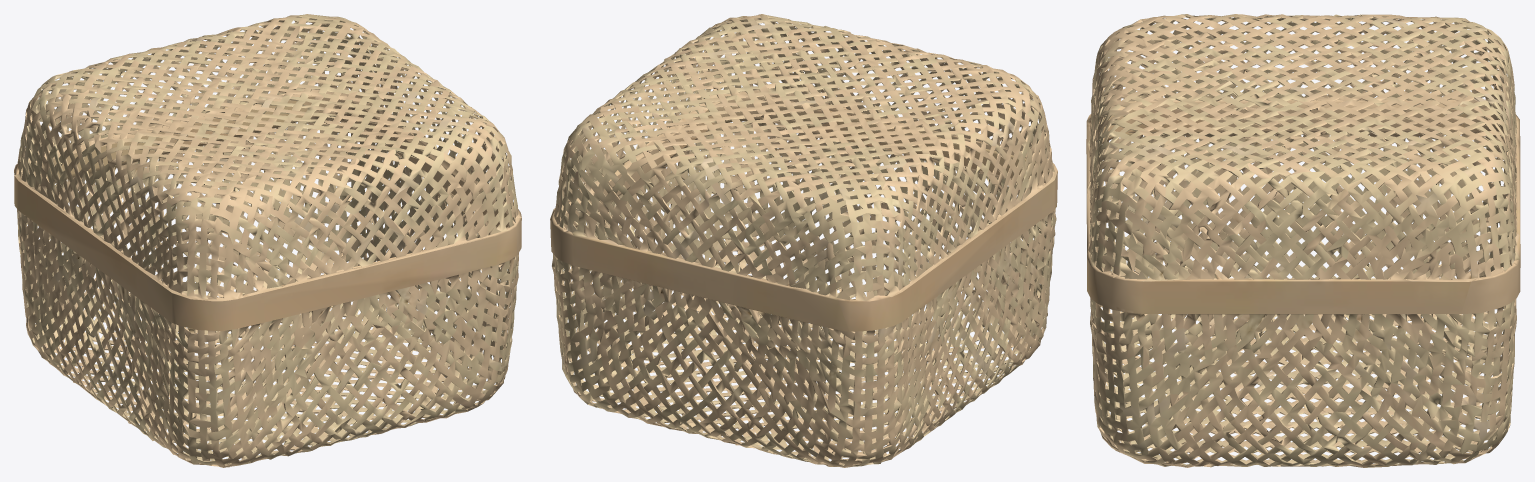
The model's file is 01 - SMARRA - 附蓋收納盒, 自然色, 30x30x23 公分 IKEA 線上購物.glb.
The picture shows the model from 3 angles, left to right: view 1: azimuth 30°, elevation 25°; view 2: azimuth 150°, elevation 25°; view 3: azimuth 270°, elevation 25°; orthographic projection. The views are drawn at different scales.
Parts seen in each view (by area): view 1: ProcessedMeshNode; view 2: ProcessedMeshNode; view 3: ProcessedMeshNode.
Boxes of the visible parts, x1,y1,x2,y2 form: ProcessedMeshNode: (14, 14, 521, 467); ProcessedMeshNode: (550, 14, 1057, 467); ProcessedMeshNode: (1086, 14, 1520, 467).
Size of the model in its own units: 0.3009 by 0.2318 by 0.3009.
Materials: 1 (1 with a texture image).
